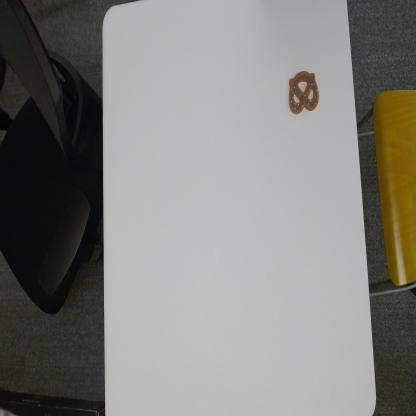Pretzel: (287, 70, 320, 115)
